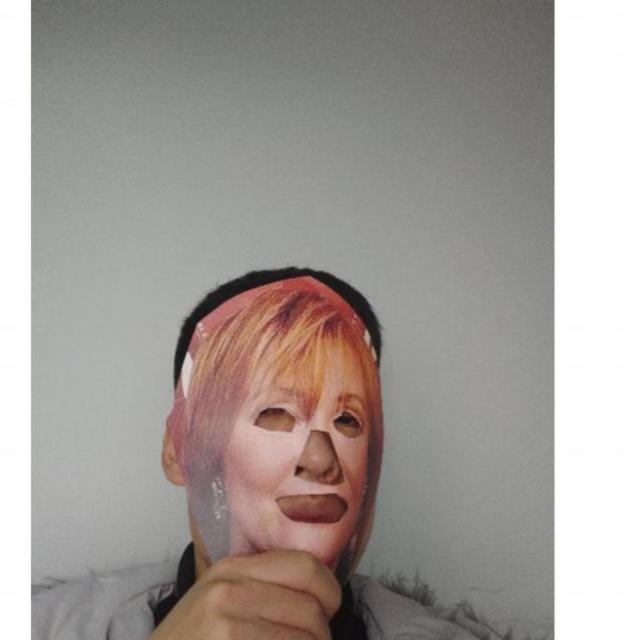mask: (164, 275, 387, 591)
